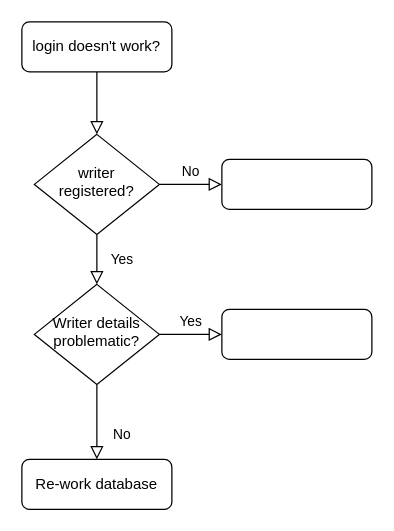
Some shapes in this 394 by 531 pixel diagram are drawn without their labels. The shapes that lost their labels are listed below. From the top down, each one's centre as x and y in pixels, then its label:
At [296,183]: "Register writer".
At [296,333]: "Re-enter details".
